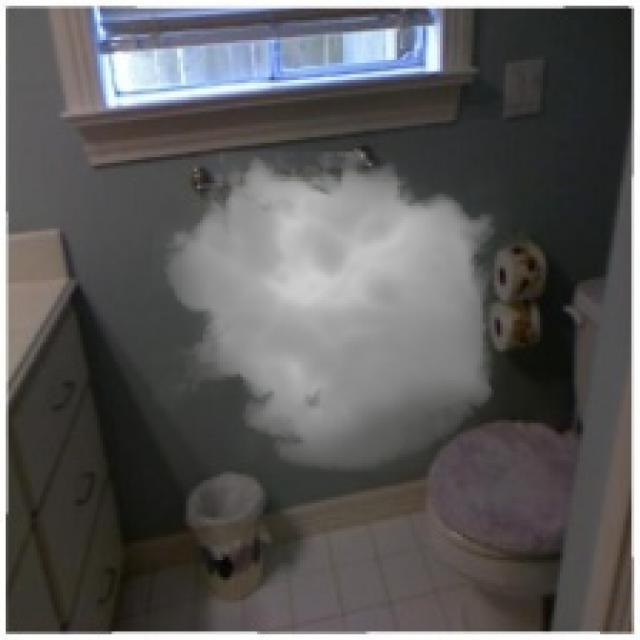Smoke: (152, 137, 512, 483)
